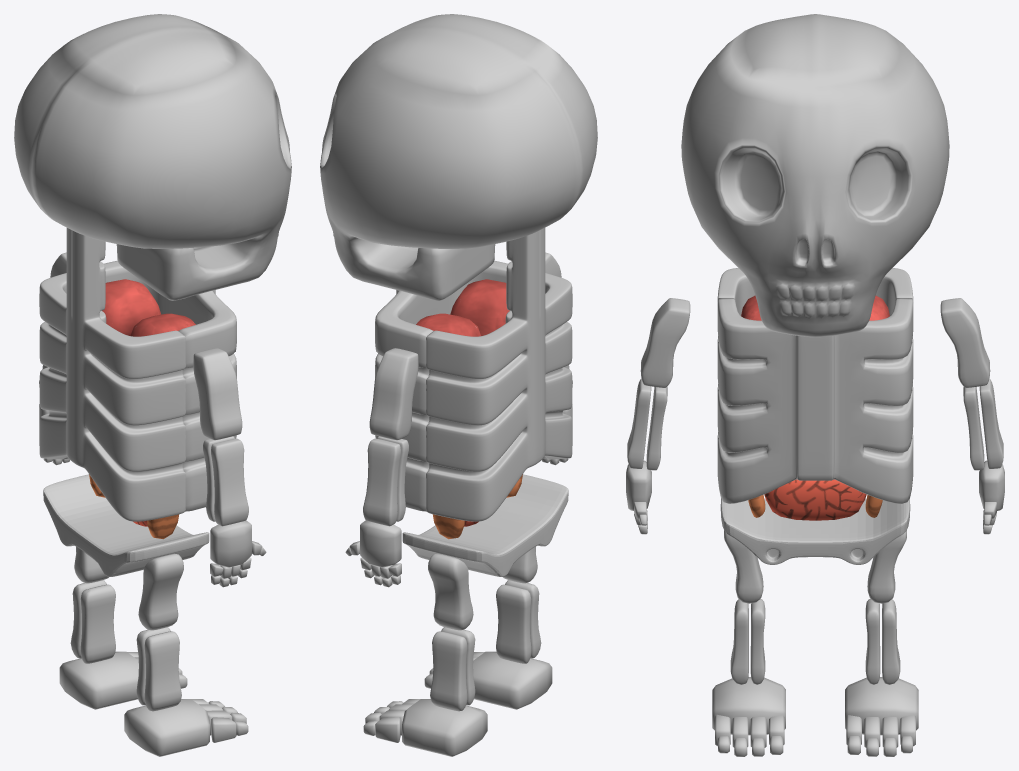
File: Bone_Module_4_Unwrap.fbx
The picture shows the model from 3 angles, left to right: view 1: azimuth 30°, elevation 25°; view 2: azimuth 150°, elevation 25°; view 3: azimuth 270°, elevation 25°; orthographic projection. The views are drawn at different scales.
Parts seen in each view (by area): view 1: Head, Rib.Back.003, Reg.003, Foot.003, Pelvis.003, Arm.003, Rib.003, Lung.006, Hand.003, Intestine_L.003; view 2: Head, Rib.Back.003, Reg.003, Foot.003, Pelvis.003, Arm.003, Rib.003, Lung.006, Hand.003, Intestine_L.003; view 3: Head, Rib.003, Arm.003, Foot.003, Reg.003, Pelvis.003, Intestine_S.003, Hand.003, Rib.Back.003, Lung.006.
Part boxes in pixels (box(x1,y1,x2,y2)): Head: box(14, 14, 291, 300); Rib.Back.003: box(39, 228, 185, 521); Reg.003: box(70, 547, 183, 711); Foot.003: box(59, 651, 248, 756); Pelvis.003: box(43, 474, 209, 576); Arm.003: box(39, 252, 248, 526); Rib.003: box(104, 260, 236, 511); Lung.006: box(102, 279, 195, 336); Hand.003: box(39, 404, 266, 587); Intestine_L.003: box(89, 474, 179, 539); Head: box(320, 14, 597, 300); Rib.Back.003: box(426, 228, 572, 521); Reg.003: box(428, 547, 541, 711); Foot.003: box(363, 651, 552, 756); Pelvis.003: box(402, 474, 568, 576); Arm.003: box(363, 252, 572, 526); Rib.003: box(375, 260, 507, 511); Lung.006: box(416, 279, 509, 336); Hand.003: box(345, 404, 572, 587); Intestine_L.003: box(432, 474, 522, 539); Head: box(681, 14, 949, 337); Rib.003: box(717, 298, 913, 503); Arm.003: box(627, 298, 1003, 470); Foot.003: box(712, 677, 918, 756); Reg.003: box(724, 530, 906, 684); Pelvis.003: box(720, 498, 910, 564); Intestine_S.003: box(764, 479, 866, 520); Hand.003: box(626, 460, 1004, 534); Rib.Back.003: box(717, 268, 913, 439); Lung.006: box(741, 295, 889, 320).
Size of the model in its own units: 14.26 by 36.72 by 18.06.
